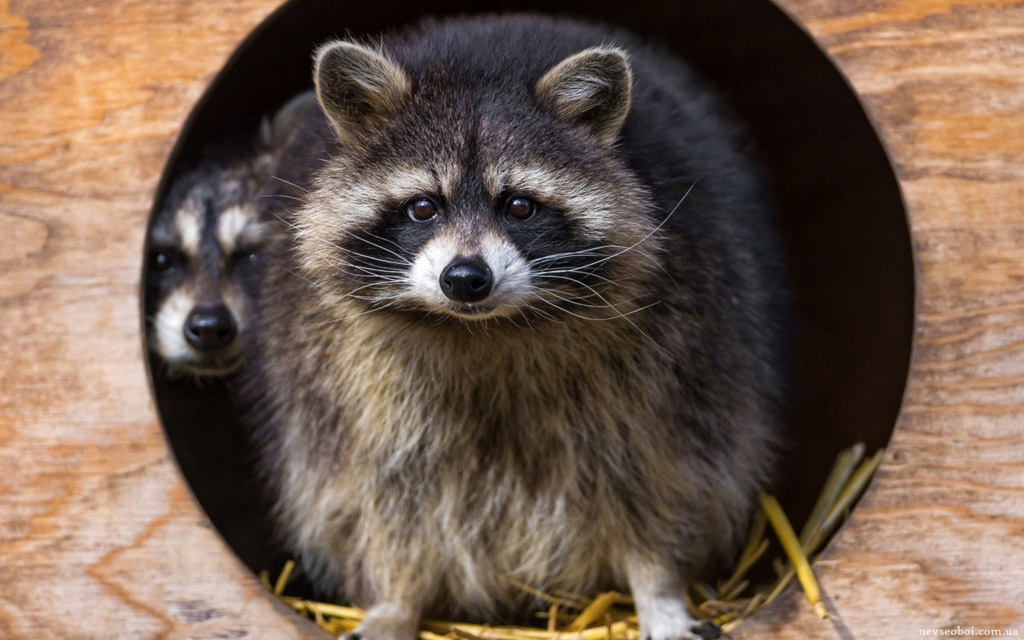raccoon: (256, 37, 785, 640), (114, 142, 329, 379)
